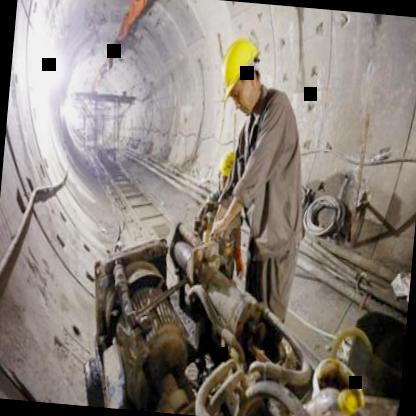helmet: (216, 29, 270, 119), (210, 147, 244, 206)
